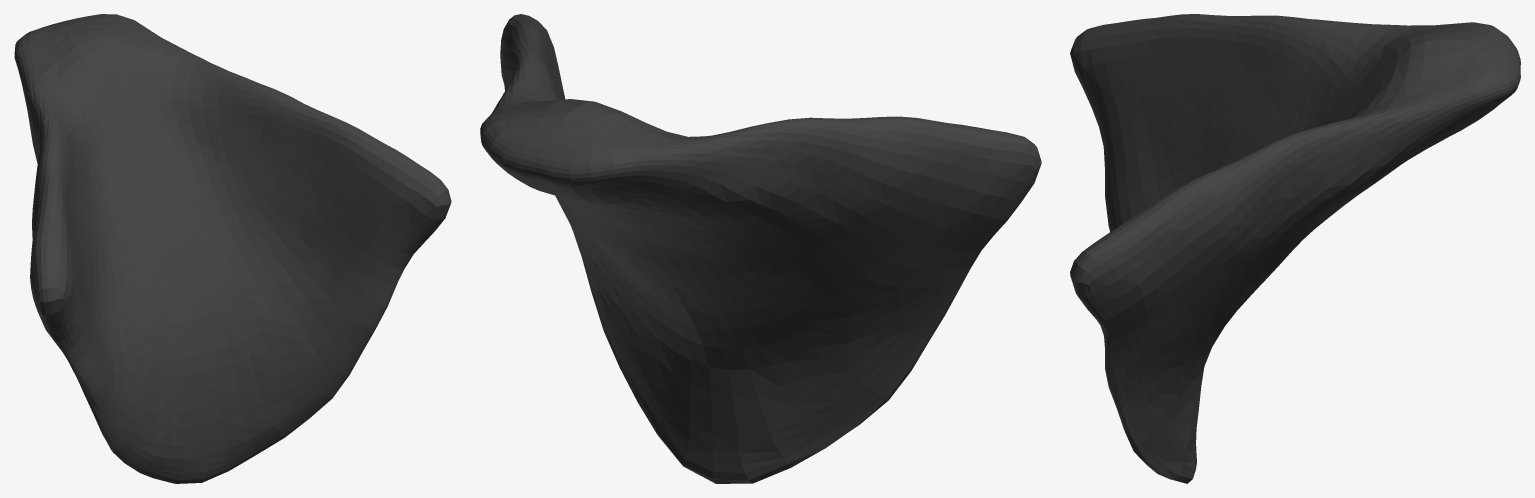
The model's file is cart_epiglottis_LO.glb.
3 views of the same model, side by side, from view 1: azimuth 30°, elevation 25°; view 2: azimuth 150°, elevation 25°; view 3: azimuth 270°, elevation 25° (orthographic). The views are drawn at different scales.
Visible parts, largest first — view 1: cart_epiglottis_LO; view 2: cart_epiglottis_LO; view 3: cart_epiglottis_LO.
Boxes of the visible parts, x1=… form: cart_epiglottis_LO: x1=14, y1=14, x2=451, y2=483; cart_epiglottis_LO: x1=480, y1=14, x2=1041, y2=483; cart_epiglottis_LO: x1=1070, y1=14, x2=1520, y2=483.
Bounding box in the file's own units: 0.2903 × 0.2501 × 0.2346.
Materials: 1 (1 with a texture image).
